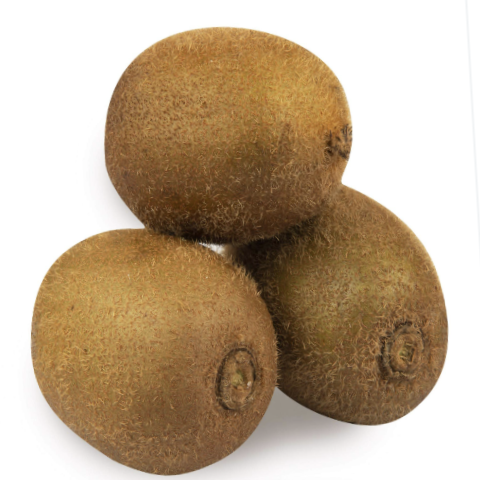kiwi: (9, 201, 309, 480), (73, 7, 363, 258), (209, 180, 445, 462)
